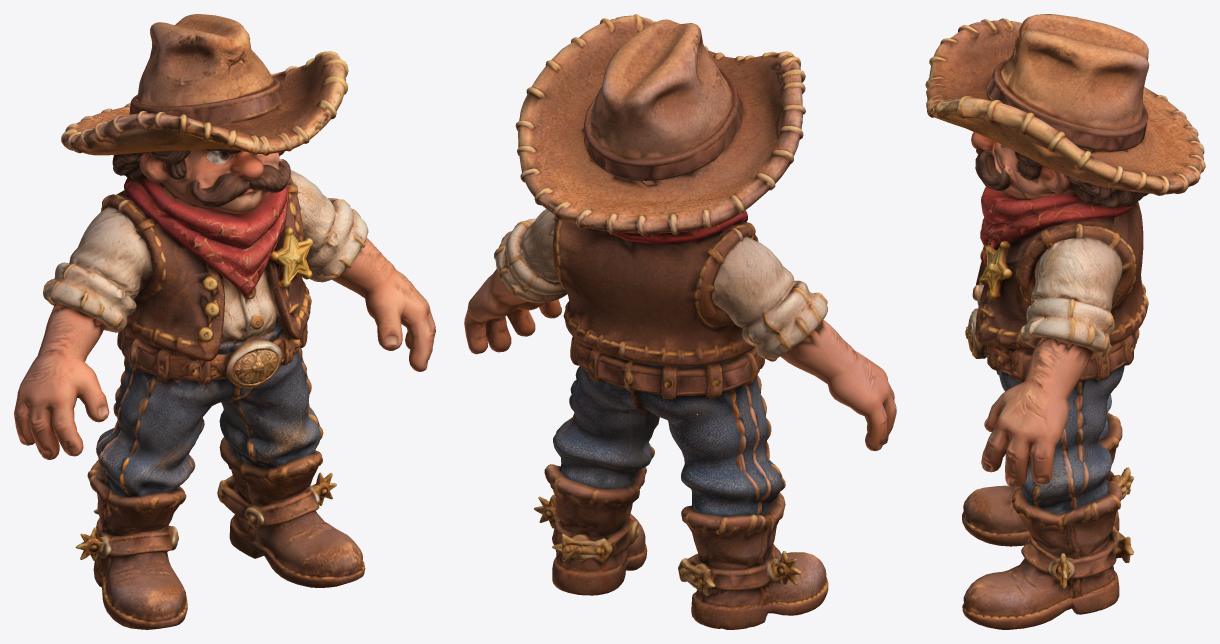
The model's file is sheriff.glb.
3 views of the same model, side by side, from view 1: azimuth 30°, elevation 25°; view 2: azimuth 150°, elevation 25°; view 3: azimuth 270°, elevation 25° (orthographic). The views are drawn at different scales.
Visible parts, largest first — view 1: tripo_node_86ffc4e4-abc6-453a-8b89-4d08c5d3b5fe; view 2: tripo_node_86ffc4e4-abc6-453a-8b89-4d08c5d3b5fe; view 3: tripo_node_86ffc4e4-abc6-453a-8b89-4d08c5d3b5fe.
Part boxes in pixels (x1=…): tripo_node_86ffc4e4-abc6-453a-8b89-4d08c5d3b5fe: x1=14, y1=14, x2=435, y2=629; tripo_node_86ffc4e4-abc6-453a-8b89-4d08c5d3b5fe: x1=464, y1=14, x2=896, y2=629; tripo_node_86ffc4e4-abc6-453a-8b89-4d08c5d3b5fe: x1=925, y1=14, x2=1205, y2=629.
Bounding box in the file's own units: 0.7592 × 0.9794 × 0.4499.
Materials: 1 (1 with a texture image).
